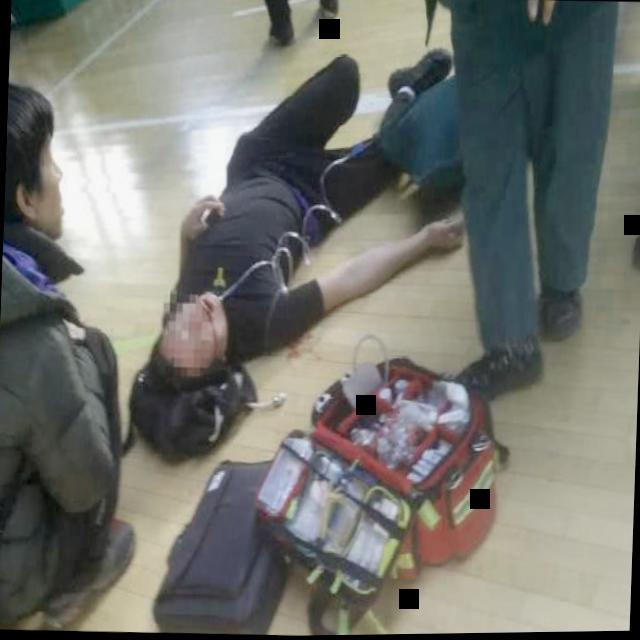Fall-Detected: (118, 22, 472, 492)
